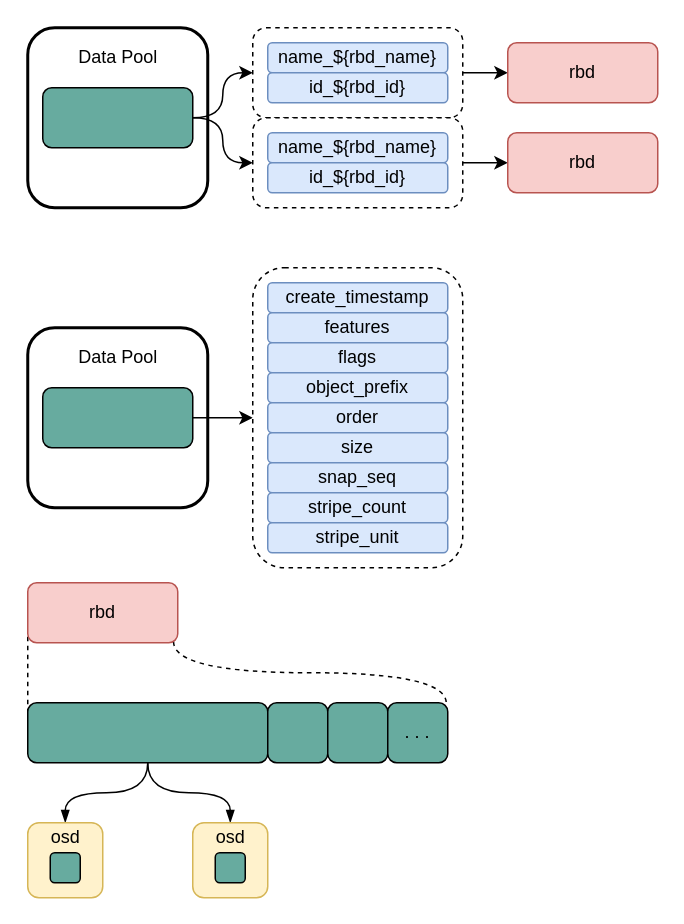
This 684x924 diagram has some shape labels left out. The shapes that lost their labels are listed below. From the top down, each one's centre as x and y in pixels, then its label:
point 117,117: rbd_directory
point 117,417: rbd_header.${id}
point 147,732: ${object_prefix}.index
